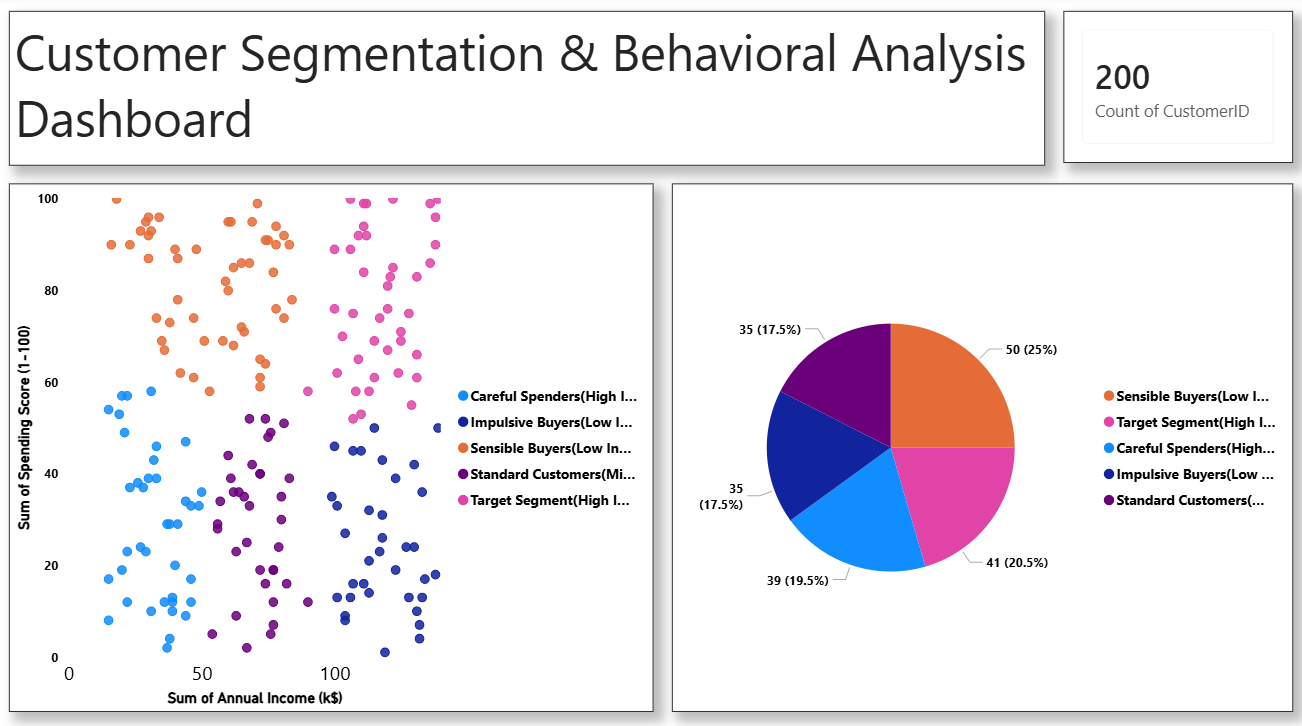

What the dashboard file says about the page in this screenshot:
{"tool":"powerbi","page":{"name":"Page 1","canvas":[1280,720],"ordinal":0},"visuals":[{"type":"scatterChart","fields":{"X":["Sum(Mall_Customers - Mall_Customers.Annual Income (k$))"],"Y":["Sum(Mall_Customers - Mall_Customers.Spending Score (1-100))"],"Category":["Mall_Customers - Mall_Customers.CustomerID"],"Series":["Mall_Customers - Mall_Customers.Customer Cluster"]},"box":[15,182.5,625,512.5],"z":0},{"type":"cardVisual","fields":{"Data":["CountNonNull(Mall_Customers - Mall_Customers.CustomerID)"]},"box":[1037.5,15,222.5,147.5],"z":1},{"type":"pieChart","fields":{"Category":["Mall_Customers - Mall_Customers.Target Segment(High Income,High Spend)"],"Y":["CountNonNull(Mall_Customers - Mall_Customers.CustomerID)"]},"box":[657.5,182.5,602.5,512.5],"z":2},{"type":"textbox","box":[15,15,1005,150],"z":3}]}

Visuals, with their boxes in screenshot pixels (x1, y1, x2, y2), scaled from the page's 1280x720 canvas onto the 1302x726 screenshot:
scatterChart - Sum(Mall_Customers - Mall_Customers.Annual Income (k$)) x Sum(Mall_Customers - Mall_Customers.Spending Score (1-100)): box=[15, 184, 651, 701]
cardVisual - CountNonNull(Mall_Customers - Mall_Customers.CustomerID): box=[1055, 15, 1282, 164]
pieChart - Mall_Customers - Mall_Customers.Target Segment(High Income,High Spend) x CountNonNull(Mall_Customers - Mall_Customers.CustomerID): box=[669, 184, 1282, 701]
textbox: box=[15, 15, 1038, 166]
